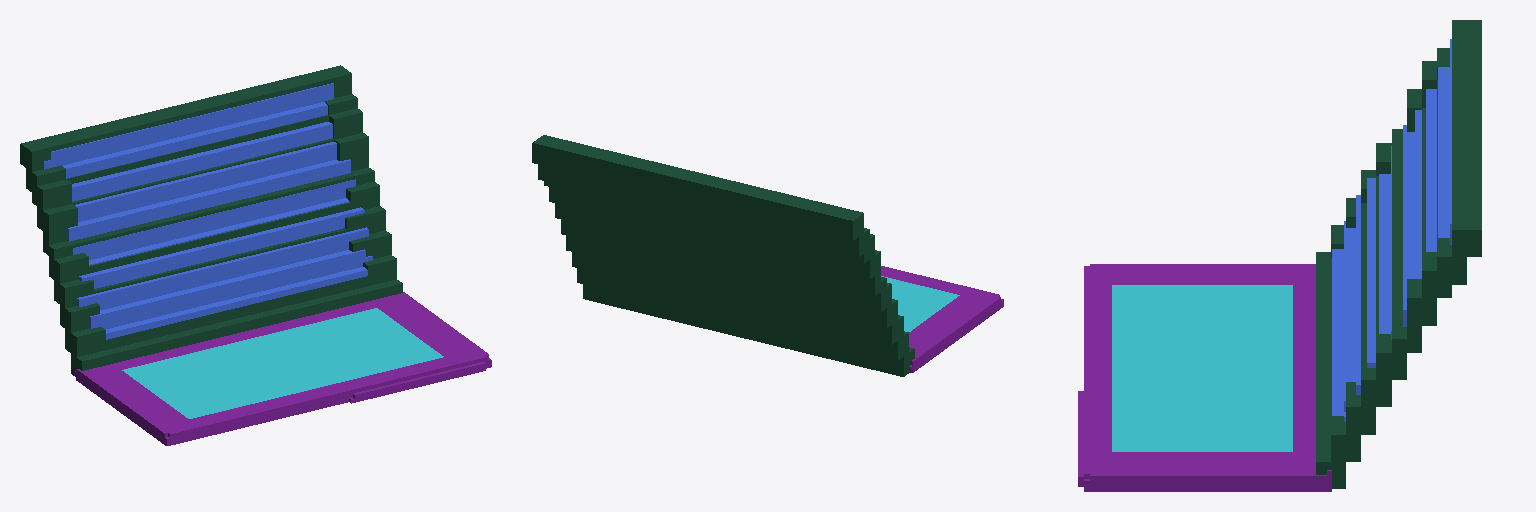
URDF robot description (physxnet_10156_strict):
<?xml version='1.0' encoding='utf-8'?>
<robot name="physxnet_10156_strict">
  <link name="l_world">
    <inertial>
      <origin xyz="0 0 0" rpy="0 0 0" />
      <mass value="0.0100000000" />
      <inertia ixx="0.0000001667" ixy="0.0" ixz="0.0" iyy="0.0000001667" iyz="0.0" izz="0.0000001667" />
    </inertial>
  </link><link name="l_0">
    <inertial>
      <origin xyz="-0.0028023038 0.0853674174 0.0080808020" rpy="0 0 0" />
      <mass value="0.0010539620" />
      <inertia ixx="0.0000029190" ixy="0.0" ixz="0.0" iyy="0.0000108243" iyz="0.0" izz="0.0000091350" />
    </inertial><visual>
      <origin xyz="0 0 0" rpy="0 0 0" />
      <geometry>
        <mesh filename="../rigid_visuals/part_000_visual.obj" scale="1 1 1" />
      </geometry><material name="mat_l_0">
        <color rgba="0.32548 0.48041 0.93131 1.00000" />
      </material>
    </visual><collision>
      <origin xyz="0 0 0" rpy="0 0 0" />
      <geometry>
        <mesh filename="part_000_collision.obj" scale="1 1 1" />
      </geometry>
    </collision>
  </link><joint name="joint_fixed_l_world_l_0" type="fixed">
    <parent link="l_world" />
    <child link="l_0" />
    <origin xyz="0 0 0" rpy="0 0 0" />
  </joint><link name="l_1">
    <inertial>
      <origin xyz="-0.0001863311 0.0851626818 0.0000868502" rpy="0 0 0" />
      <mass value="0.1345685397" />
      <inertia ixx="0.0005794340" ixy="0.0" ixz="0.0" iyy="0.0018226925" iyz="0.0" izz="0.0014975955" />
    </inertial><visual>
      <origin xyz="0 0 0" rpy="0 0 0" />
      <geometry>
        <mesh filename="../rigid_visuals/part_001_visual.obj" scale="1 1 1" />
      </geometry><material name="mat_l_1">
        <color rgba="0.15447 0.35718 0.26453 1.00000" />
      </material>
    </visual><collision>
      <origin xyz="0 0 0" rpy="0 0 0" />
      <geometry>
        <mesh filename="part_001_collision.obj" scale="1 1 1" />
      </geometry>
    </collision>
  </link><joint name="joint_fixed_l_0_l_1" type="fixed">
    <parent link="l_0" />
    <child link="l_1" />
    <origin xyz="0 0 0" rpy="0 0 0" />
  </joint><link name="l_2">
    <inertial>
      <origin xyz="-0.0034467038 -0.0535630254 -0.0927413884" rpy="0 0 0" />
      <mass value="0.0001476715" />
      <inertia ixx="0.0000001863" ixy="0.0" ixz="0.0" iyy="0.0000009433" iyz="0.0" izz="0.0000011296" />
    </inertial><visual>
      <origin xyz="0 0 0" rpy="0 0 0" />
      <geometry>
        <mesh filename="../rigid_visuals/part_002_visual.obj" scale="1 1 1" />
      </geometry><material name="mat_l_2">
        <color rgba="0.29417 0.82410 0.87988 1.00000" />
      </material>
    </visual><collision>
      <origin xyz="0 0 0" rpy="0 0 0" />
      <geometry>
        <mesh filename="part_002_collision.obj" scale="1 1 1" />
      </geometry>
    </collision>
  </link><joint name="joint_fixed_l_1_l_2" type="fixed">
    <parent link="l_1" />
    <child link="l_2" />
    <origin xyz="0 0 0" rpy="0 0 0" />
  </joint><link name="l_3">
    <inertial>
      <origin xyz="0.0000000000 -0.0504984867 -0.0943264655" rpy="0 0 0" />
      <mass value="0.0136737466" />
      <inertia ixx="0.0000353973" ixy="0.0" ixz="0.0" iyy="0.0001397598" iyz="0.0" izz="0.0001748098" />
    </inertial><visual>
      <origin xyz="0 0 0" rpy="0 0 0" />
      <geometry>
        <mesh filename="../rigid_visuals/part_003_visual.obj" scale="1 1 1" />
      </geometry><material name="mat_l_3">
        <color rgba="0.55944 0.19916 0.68114 1.00000" />
      </material>
    </visual><collision>
      <origin xyz="0 0 0" rpy="0 0 0" />
      <geometry>
        <mesh filename="part_003_collision.obj" scale="1 1 1" />
      </geometry>
    </collision>
  </link><joint name="joint_fixed_l_2_l_3" type="fixed">
    <parent link="l_2" />
    <child link="l_3" />
    <origin xyz="0 0 0" rpy="0 0 0" />
  </joint>
</robot>

--- Facts derived from the render (not from the file) ---
Views: 3 orthographic renders of the robot side by side, from view 1: azimuth 30°, elevation 25°; view 2: azimuth 150°, elevation 25°; view 3: azimuth 270°, elevation 25°.
Model physxnet_10156_strict with 5 links and 4 joints (4 fixed), rooted at l_world, posed every joint at zero.
Links seen in each view (by area): view 1: l_0, l_1, l_2, l_3; view 2: l_1, l_3, l_2; view 3: l_2, l_1, l_3, l_0.
Link boxes in pixels (left/top/right/bottom): l_0: left=43, top=83, right=372, bottom=339; l_1: left=20, top=65, right=402, bottom=376; l_2: left=122, top=308, right=443, bottom=418; l_3: left=74, top=292, right=491, bottom=445; l_1: left=532, top=135, right=914, bottom=376; l_3: left=881, top=266, right=1003, bottom=372; l_2: left=881, top=276, right=959, bottom=331; l_2: left=1112, top=285, right=1292, bottom=451; l_1: left=1316, top=20, right=1481, bottom=488; l_3: left=1078, top=264, right=1331, bottom=491; l_0: left=1332, top=39, right=1451, bottom=421.
Bounding box of the posed robot: 0.356 × 0.2858 × 0.2032 m (x, y, z).
Meshes: 4 distinct files referenced, 4 mesh visuals loaded (4 OBJ).
